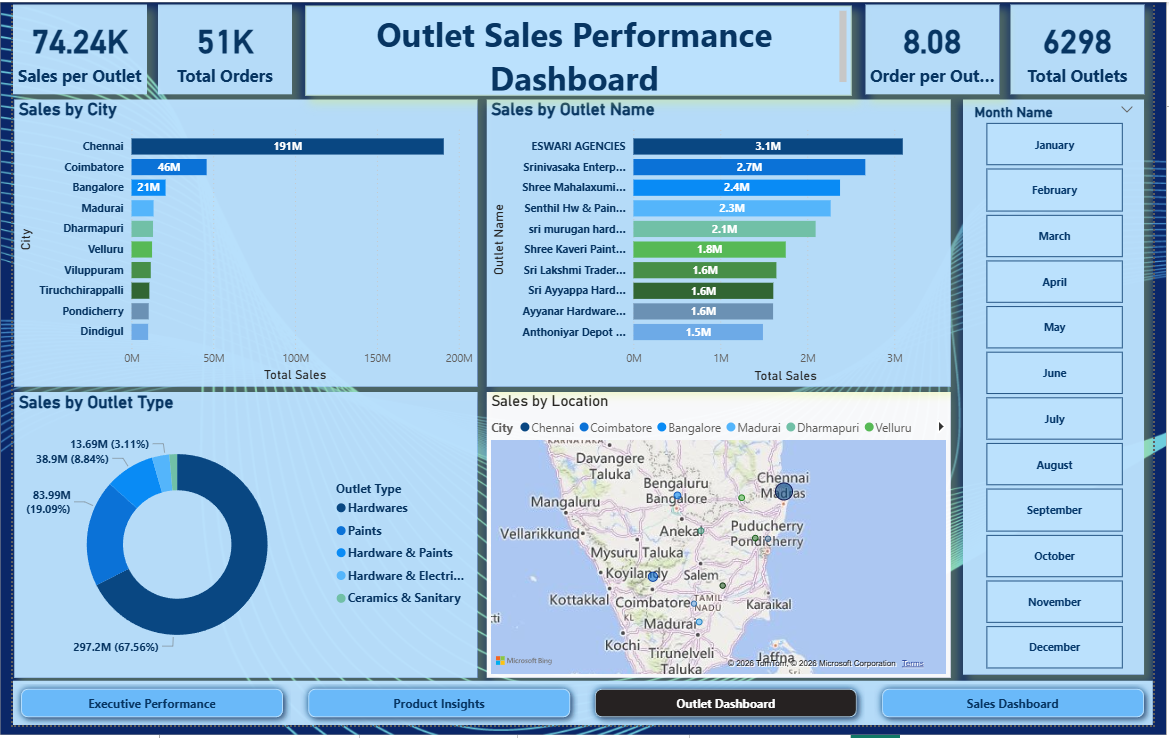

The dashboard page shown, as its layout file describes it:
{"tool":"powerbi","page":{"name":"Outlet Dashboard","canvas":[1280,812],"ordinal":2},"visuals":[{"type":"card","fields":{"Values":["Fact Table.Sales per Outlet"]},"box":[0,2.8,150.1,101],"z":0},{"type":"card","fields":{"Values":["Fact Table.Total Orders"]},"box":[162.7,2.8,150.1,101],"z":1000},{"type":"card","fields":{"Values":["Fact Table.Total Outlets"]},"box":[1119.5,2.8,150.1,101],"z":2000},{"type":"barChart","title":"Sales by City","fields":{"Category":["Fact Table.City"],"Y":["Fact Table.Total Sales"],"Series":["Fact Table.City"]},"box":[1.4,109.8,520.1,322.5],"z":3000},{"type":"donutChart","title":"Sales by Outlet Type","fields":{"Category":["Fact Table.Outlet Type"],"Y":["Fact Table.Total Sales"]},"box":[1.4,437.7,520.1,321.1],"z":4000},{"type":"map","title":"Sales by Location","fields":{"Category":["Fact Table.City"],"Size":["Fact Table.Total Sales"],"Series":["Fact Table.City"]},"box":[531.7,437.7,520.5,321],"z":5000},{"type":"barChart","title":"Sales by Outlet Name","fields":{"Category":["Fact Table.Outlet Name"],"Y":["Fact Table.Total Sales"],"Series":["Fact Table.Outlet Name"]},"box":[531.7,109.4,520.5,322.7],"z":6000},{"type":"slicer","fields":{"Values":["Dim_Date.Month Name"]},"box":[1066.2,109.4,203.4,645.3],"z":7000},{"type":"pageNavigator","box":[0,761.8,1279.5,50.5],"z":8000},{"type":"card","fields":{"Values":["Fact Table.Order per Outlet"]},"box":[956.8,2.8,150.1,101],"z":9000},{"type":"textbox","box":[328.3,4.2,613.1,101],"z":10000}]}

Visuals, with their boxes in screenshot pixels (x1, y1, x2, y2), scaled from the page's 1280x812 canvas onto the 1169x738 screenshot:
card - Fact Table.Sales per Outlet: 0/3/137/94
card - Fact Table.Total Orders: 149/3/286/94
card - Fact Table.Total Outlets: 1022/3/1160/94
"Sales by City" barChart: 1/100/476/393
"Sales by Outlet Type" donutChart: 1/398/476/690
"Sales by Location" map: 486/398/961/690
"Sales by Outlet Name" barChart: 486/99/961/393
slicer - Dim_Date.Month Name: 974/99/1160/686
pageNavigator: 0/692/1168/737
card - Fact Table.Order per Outlet: 874/3/1011/94
textbox: 300/4/860/96
